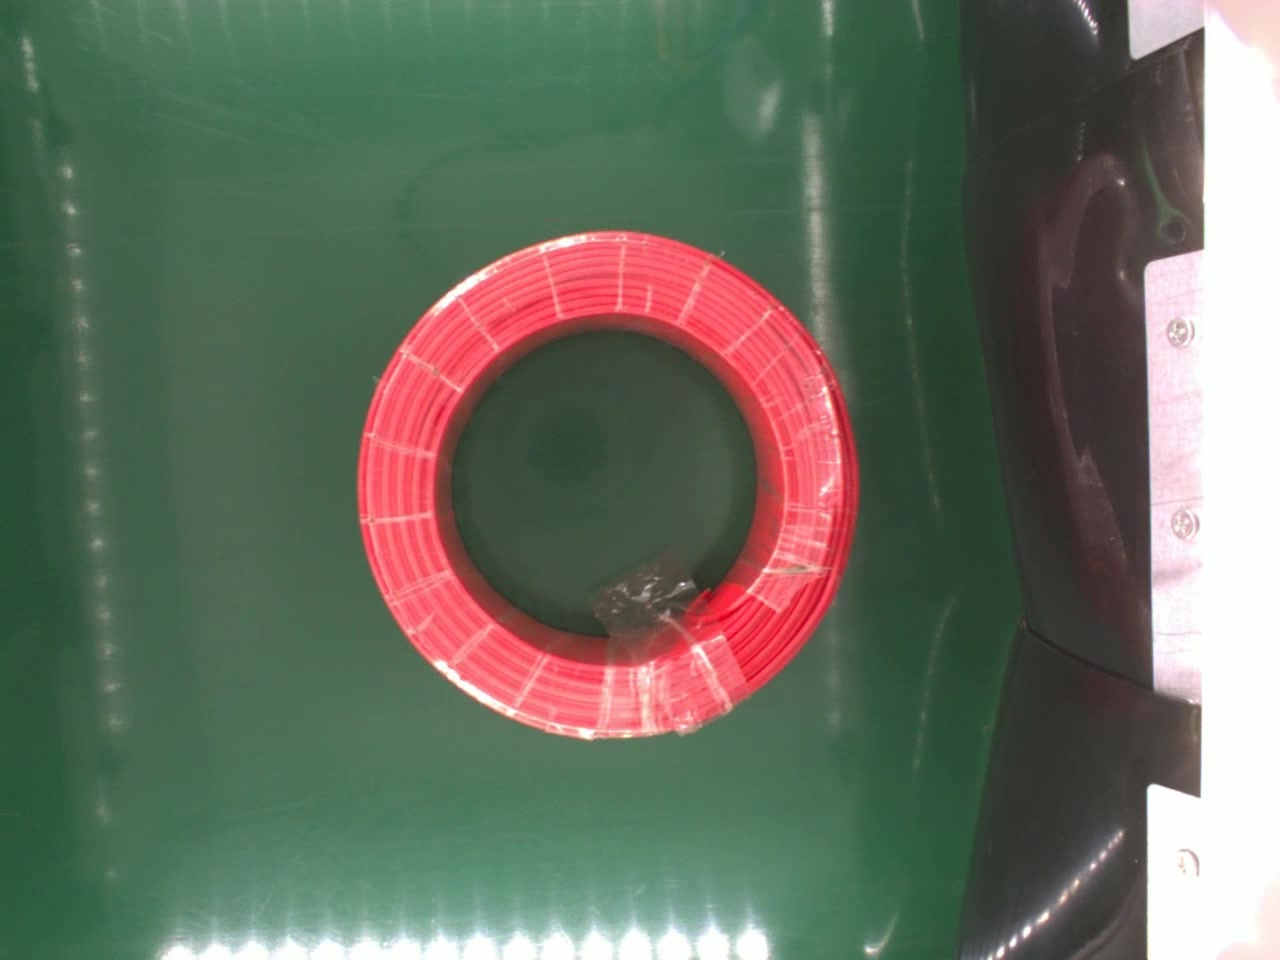red: (353, 225, 858, 748)
